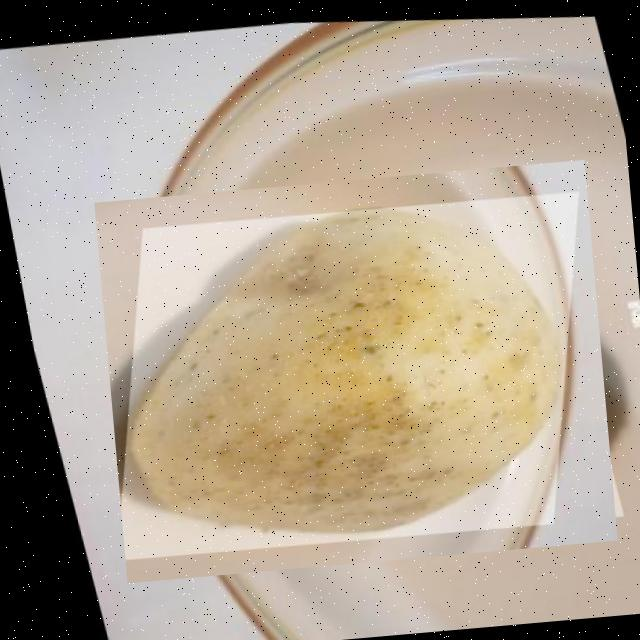Potato: (93, 160, 616, 582)
